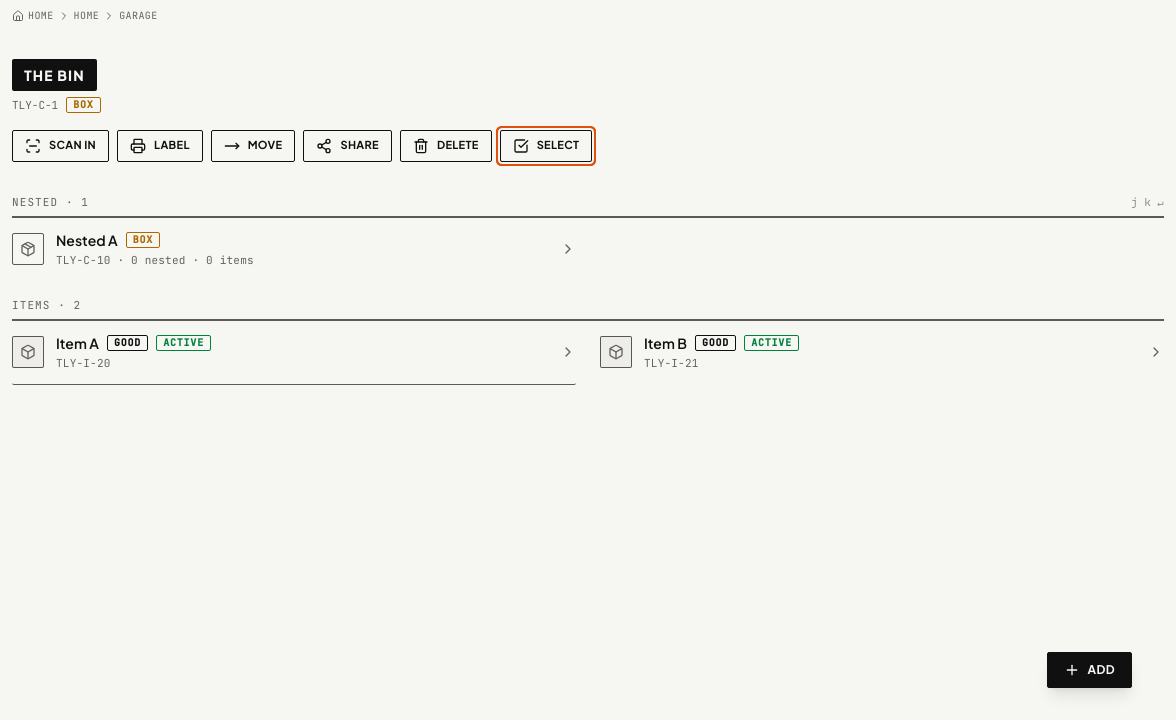
#267: activating select mode blurs the toggle, so the very next Space is not swallowed by it
This screenshot has width=1176, height=720.
Click the button "Select" at [546, 146], box top-left (500, 130), bottom-right (592, 162)
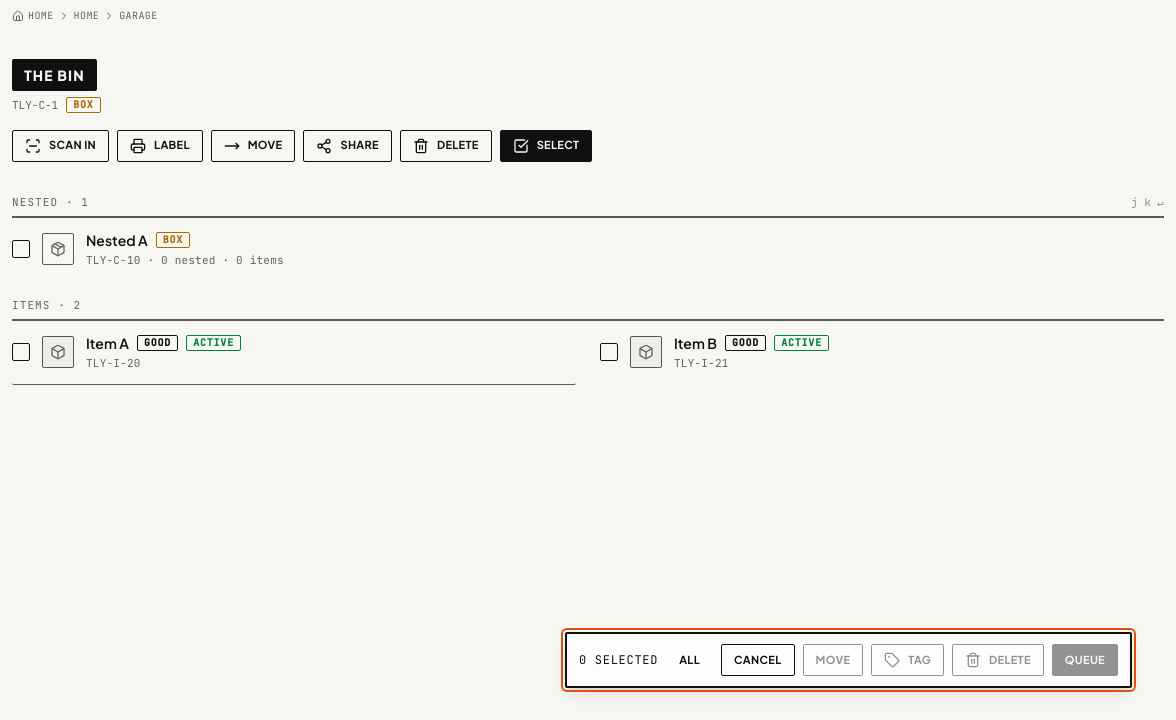
Check: the text "0 selected" is shown, box top-left (579, 652), bottom-right (658, 668)
